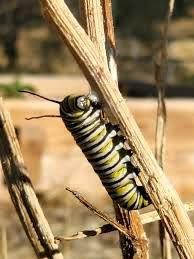Caterpillar: (55, 83, 158, 217)
